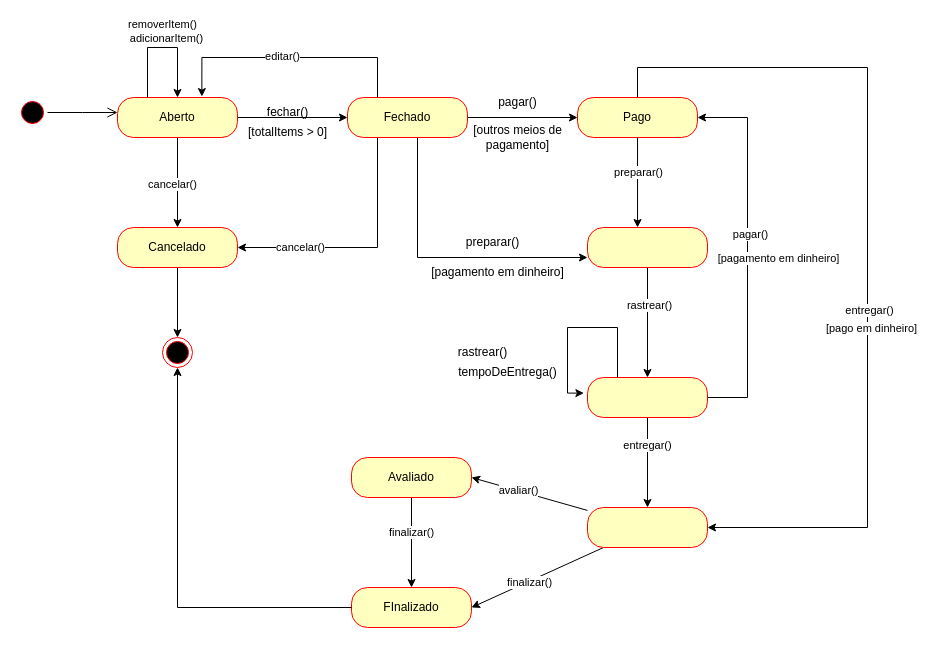
This 934x645 diagram has some shape labels left out. The shapes that lost their labels are listed below. From the top down, each one's centre as x and y in pixels, then its label:
At [647,247]: "Em Preparo".
At [647,397]: "Enviado".
At [647,527]: "Entregue".
